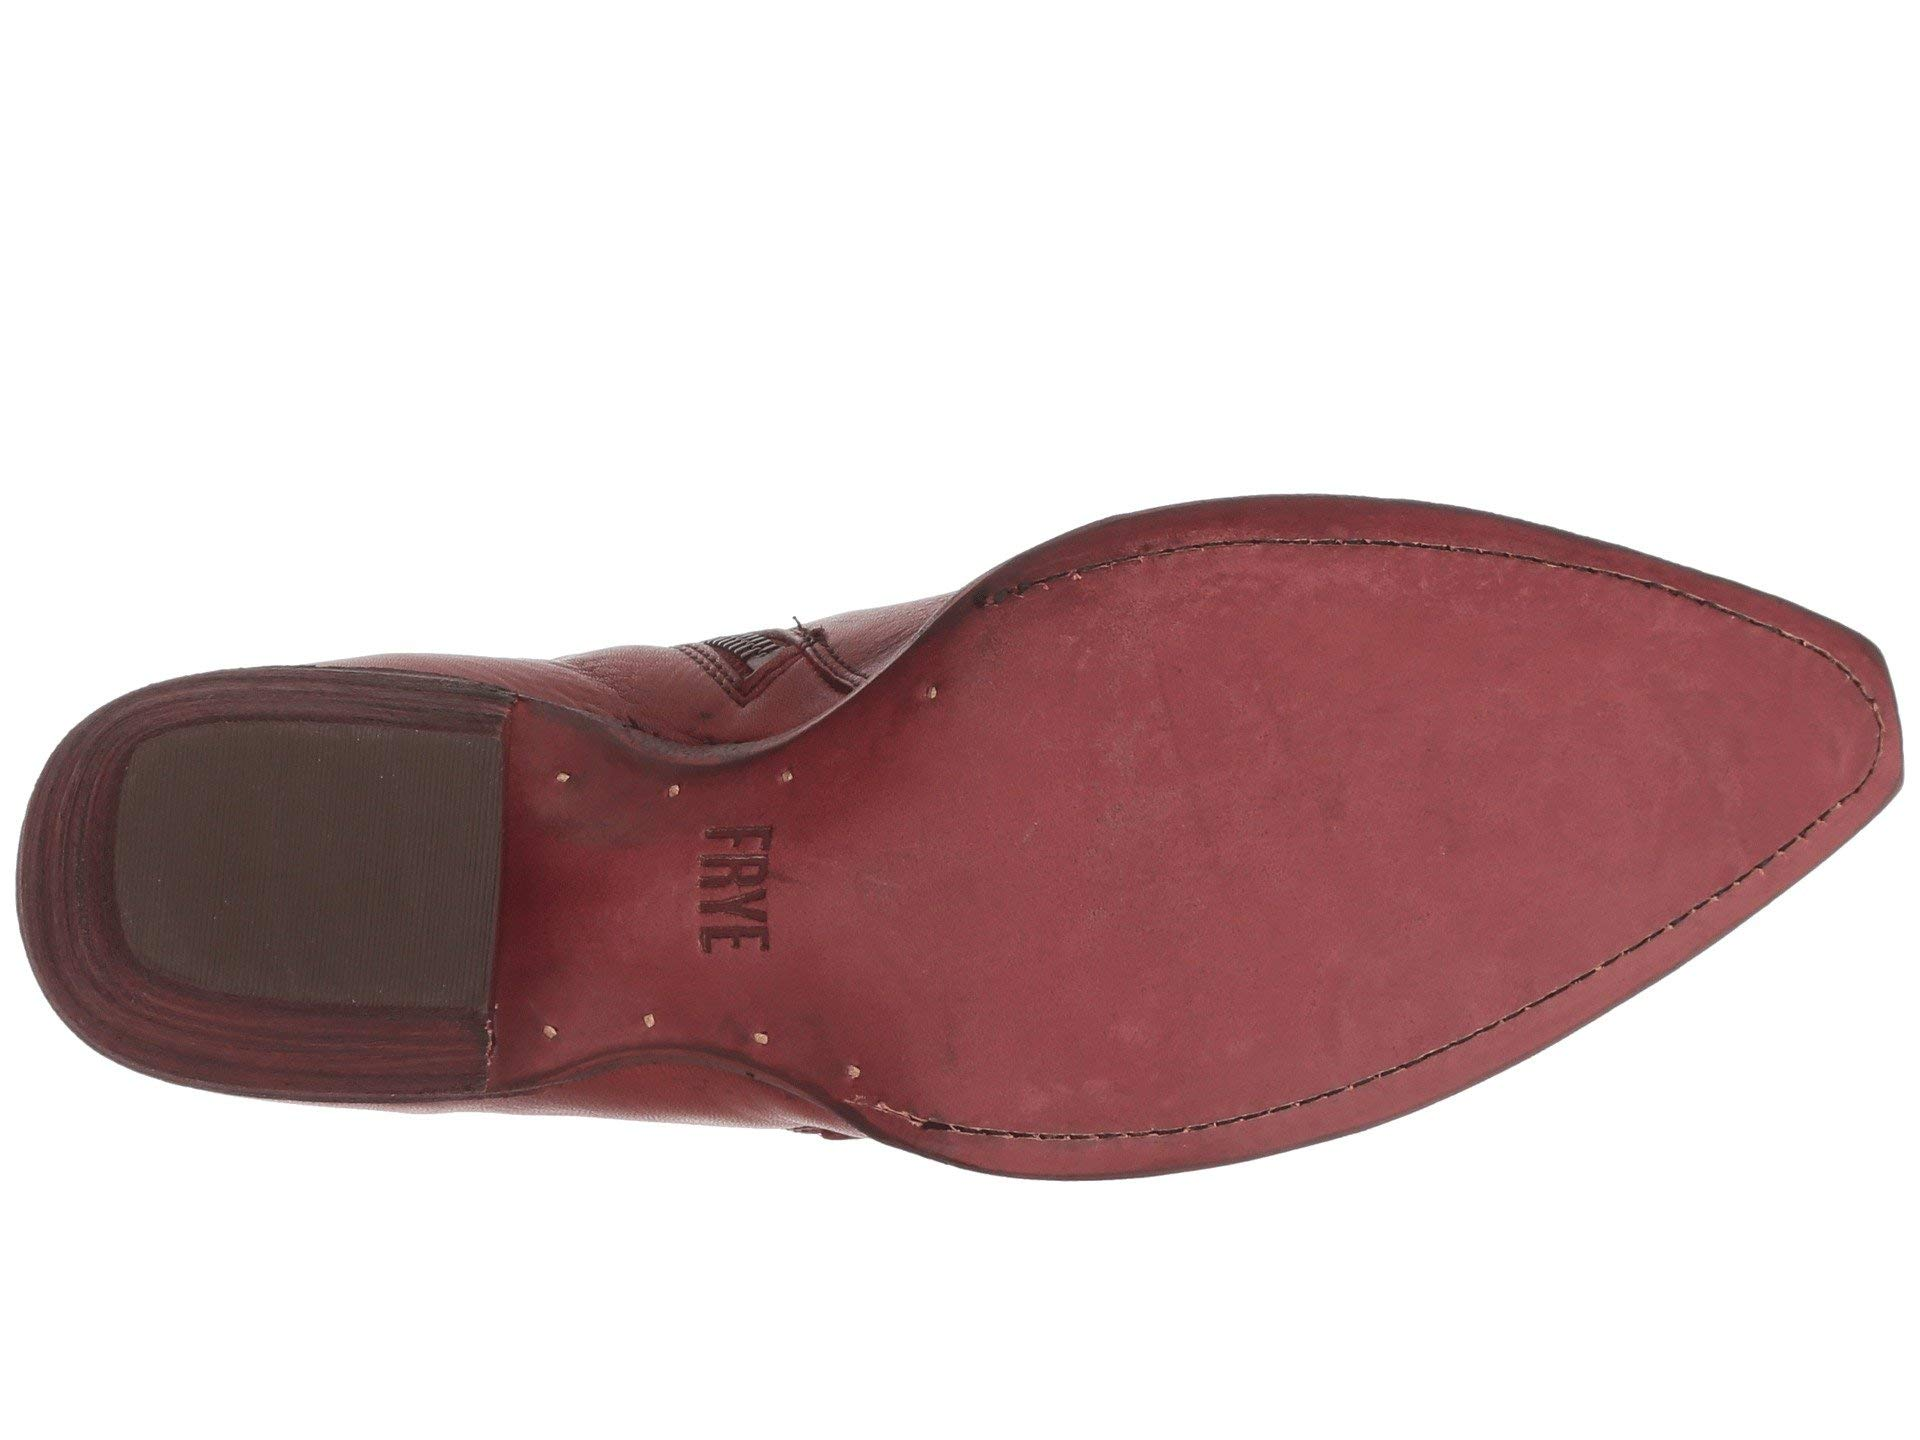circle: (609, 750, 850, 1063)
line: (1140, 529, 1569, 578)
quad: (107, 708, 513, 1032)
text: (609, 750, 850, 1063)
